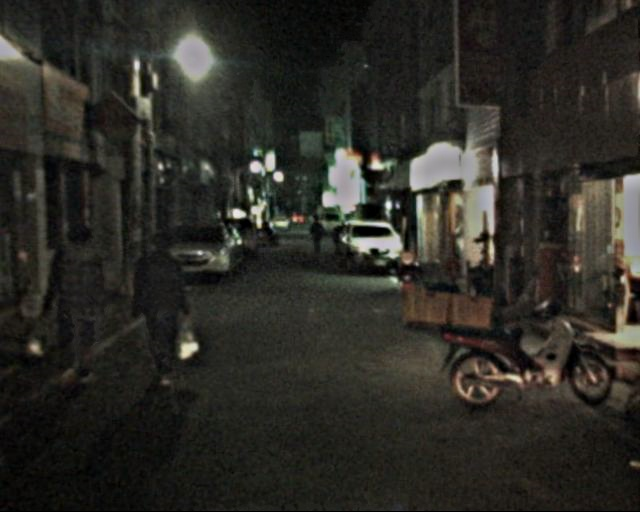person: (42, 222, 115, 377), (130, 226, 195, 391), (309, 216, 326, 256)
